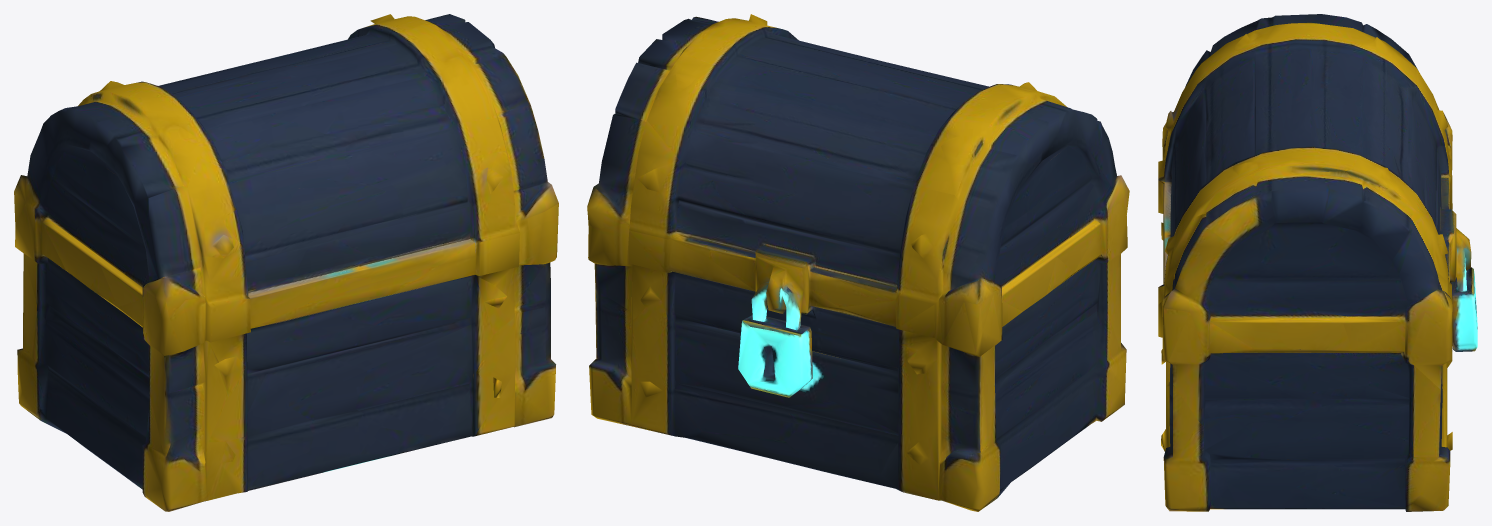
Rendered from chest_tripo.glb.
3 views of the same model, side by side, from view 1: azimuth 30°, elevation 25°; view 2: azimuth 150°, elevation 25°; view 3: azimuth 270°, elevation 25° (orthographic). The views are drawn at different scales.
Visible parts, largest first — view 1: chest_tripo; view 2: chest_tripo; view 3: chest_tripo.
Boxes of the visible parts, left/top/right/bottom form: chest_tripo: left=14, top=14, right=558, bottom=511; chest_tripo: left=587, top=14, right=1129, bottom=511; chest_tripo: left=1158, top=14, right=1477, bottom=511.
Bounding box in the file's own units: 1.15 × 0.964 × 0.847.
Materials: 1 (1 with a texture image).
